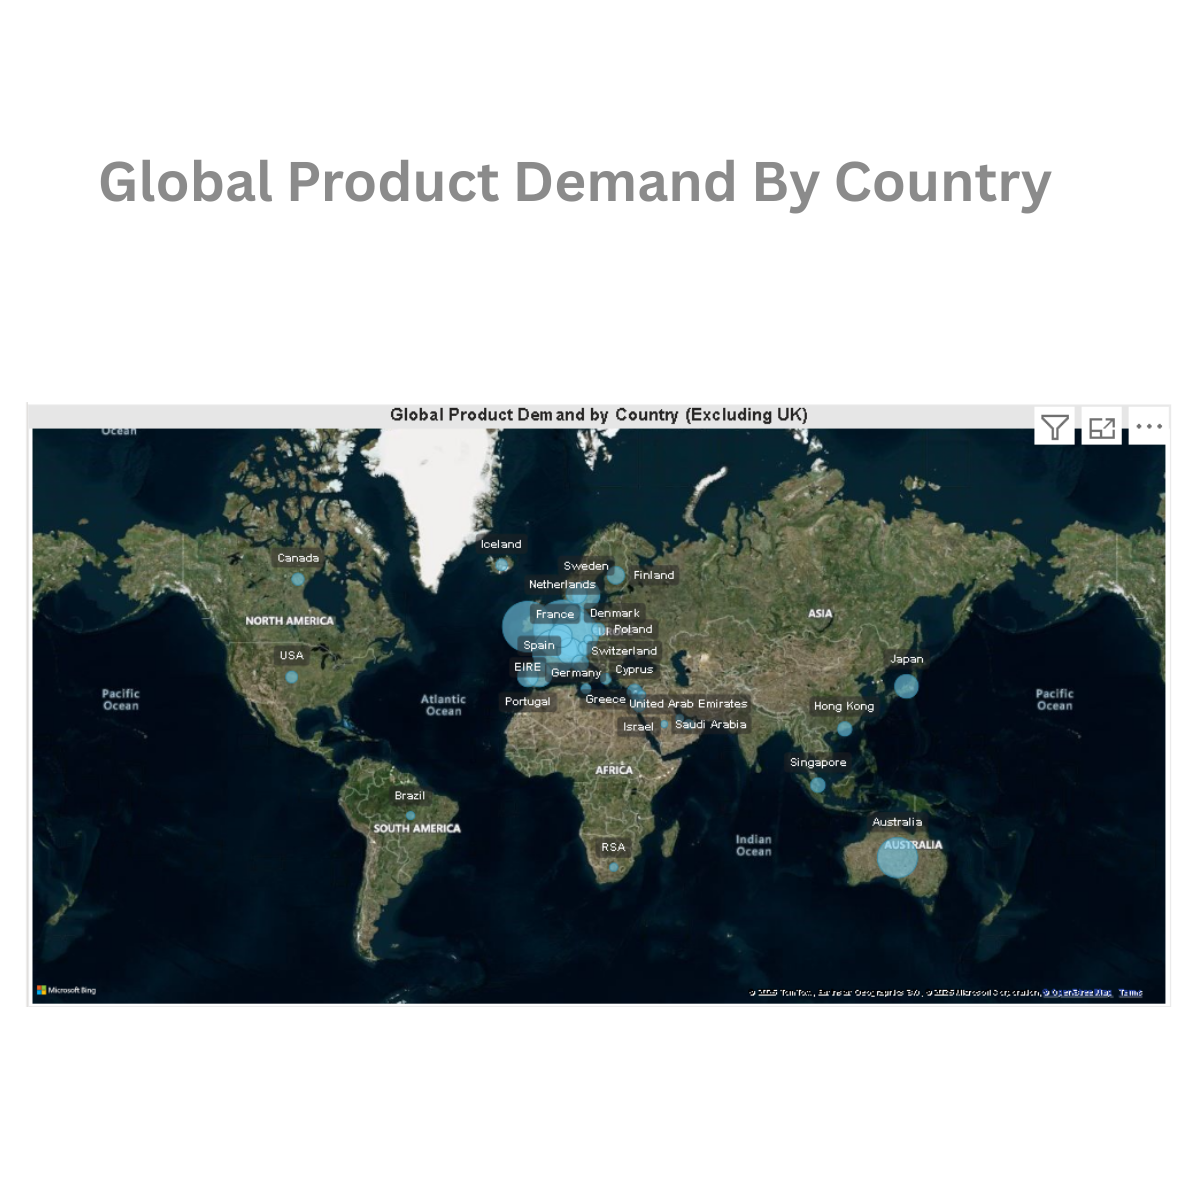

The page's visual inventory and layout, read from the dashboard file:
{"tool":"powerbi","page":{"name":"Page 4","canvas":[1280,720],"ordinal":3},"visuals":[{"type":"map","title":"Global Product Demand by Country (Excluding UK)","fields":{"Category":["Sheet1.Country"],"Size":["Sum(Sheet1.Quantity)"]},"box":[0,30,1252,662],"z":0}]}

Visuals, with their boxes on the page's 1280x720 design canvas (x1, y1, x2, y2). These are canvas units, not pixel positions in the 1200x1200 screenshot, which may show the page scaled, cropped or inside an application window:
"Global Product Demand by Country (Excluding UK)" map: x1=0, y1=30, x2=1252, y2=692
